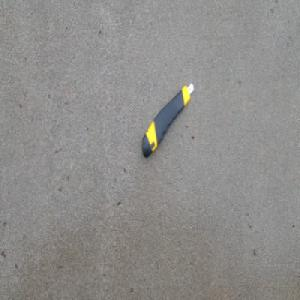Cutter: (141, 81, 195, 159)
